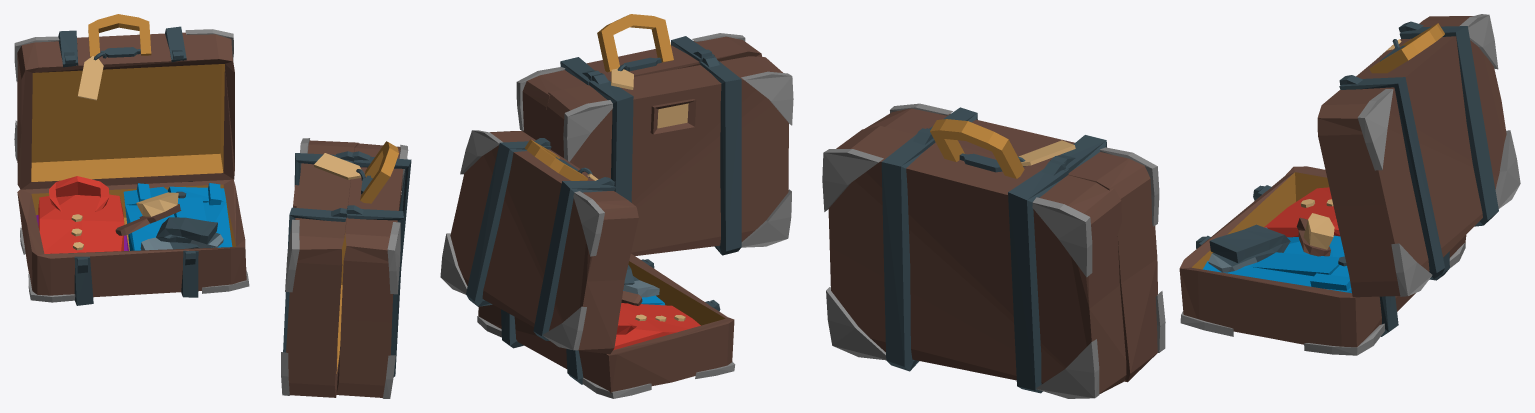
3 views of the same model, side by side, from view 1: azimuth 30°, elevation 25°; view 2: azimuth 150°, elevation 25°; view 3: azimuth 270°, elevation 25° (orthographic). The views are drawn at different scales.
Visible parts, largest first — view 1: node_MeshObject1810959360-PolyPaper20; view 2: node_MeshObject1810959360-PolyPaper20; view 3: node_MeshObject1810959360-PolyPaper20.
Part boxes in pixels (x1=…): node_MeshObject1810959360-PolyPaper20: x1=14, y1=14, x2=411, y2=398; node_MeshObject1810959360-PolyPaper20: x1=440, y1=14, x2=793, y2=398; node_MeshObject1810959360-PolyPaper20: x1=822, y1=14, x2=1520, y2=398.
Size of the model in its own units: 0.5992 by 0.4495 by 0.96.
